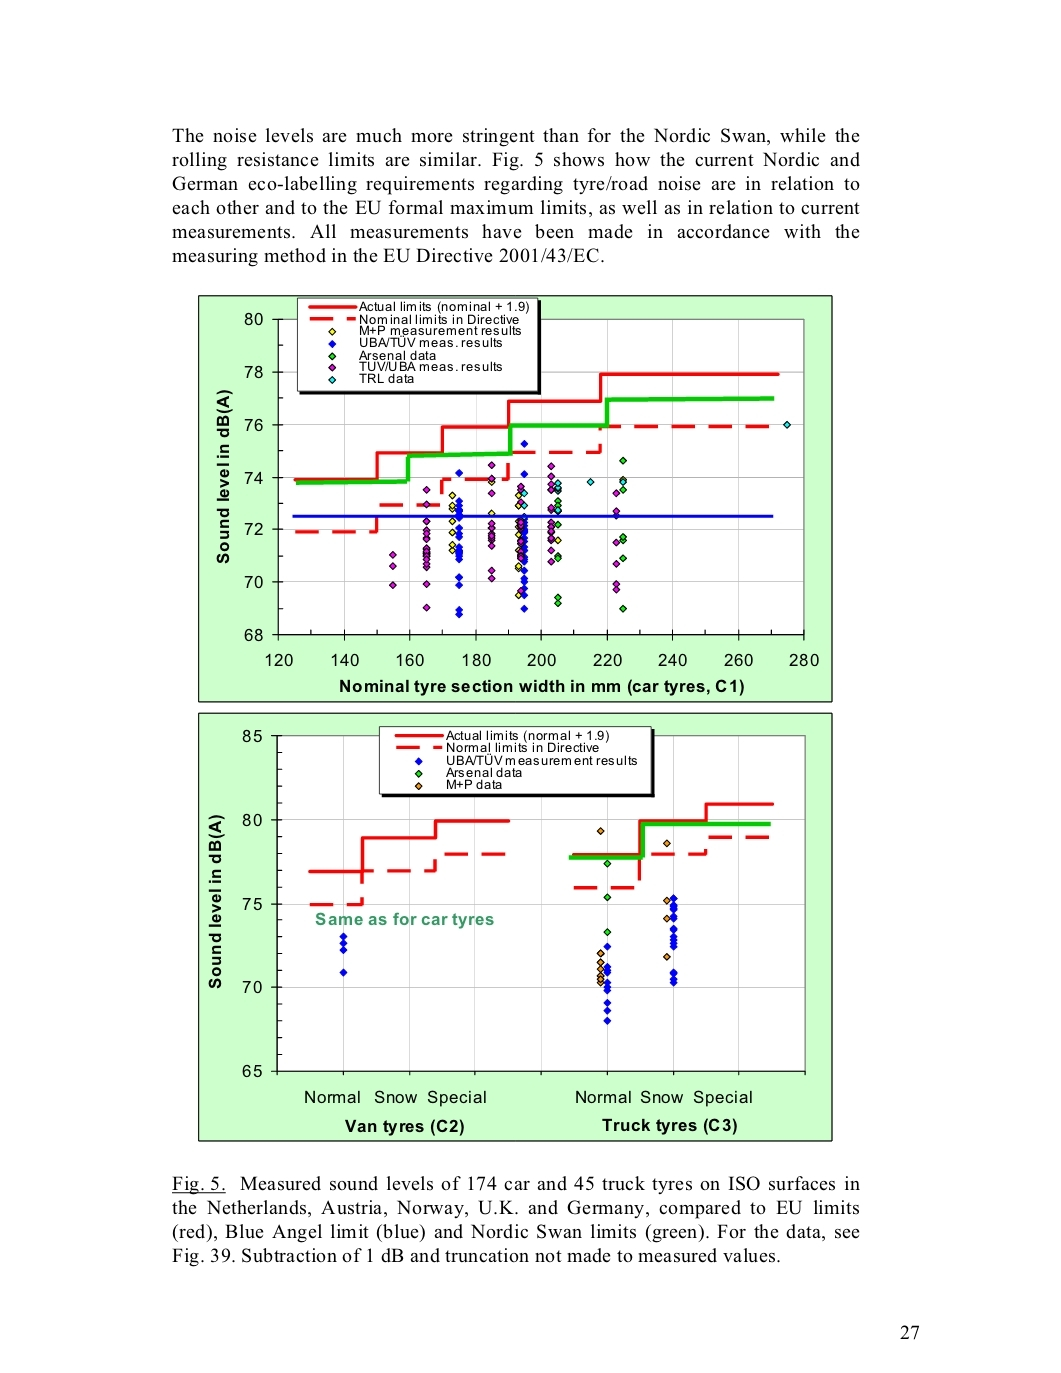figure: (198, 711, 833, 1142), (198, 294, 833, 703)
